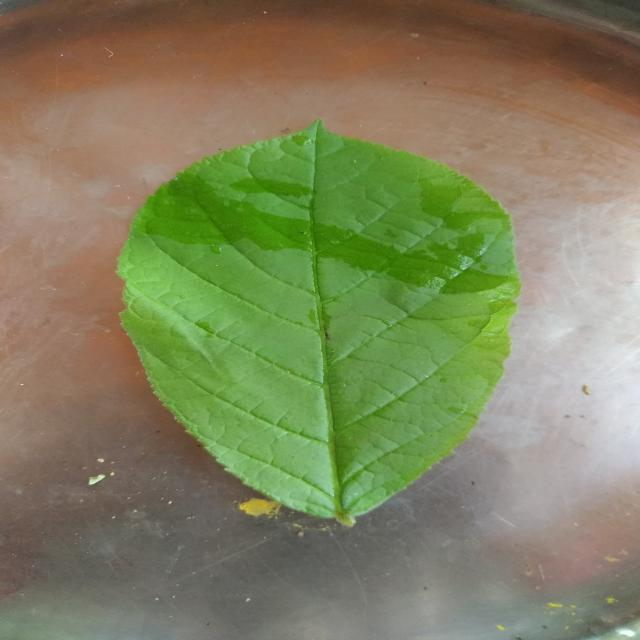padri: (118, 121, 520, 525)
